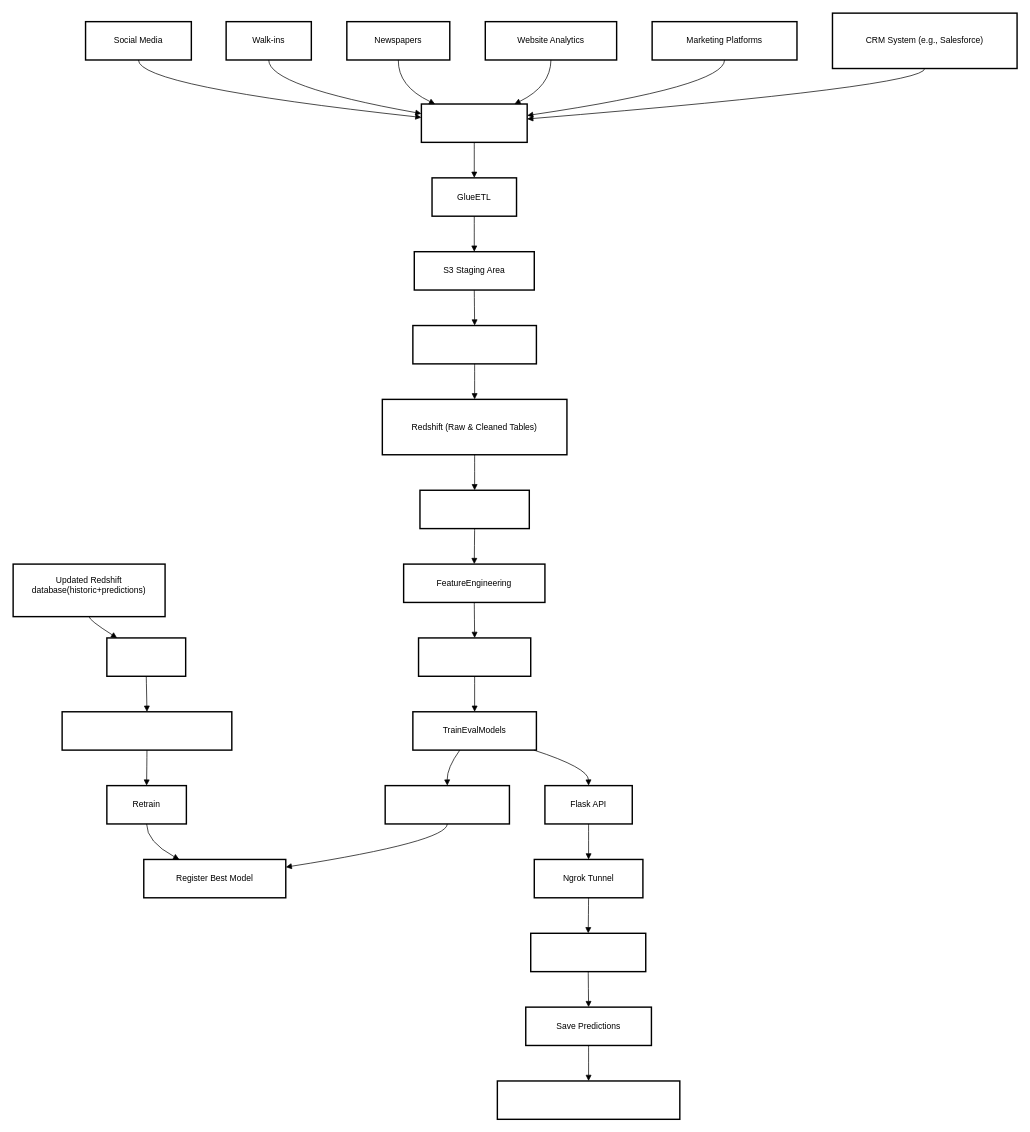
Some shapes in this 1030 by 1132 pixel diagram are drawn without their labels. Here are the shapes that lost their labels. From the top down, the box of each, then its label:
(420, 103, 528, 143): GlueCrawler
(412, 324, 537, 364): GlueConnection
(419, 489, 530, 529): DataCleaning
(106, 637, 186, 677): Airflow
(417, 637, 531, 677): Preprocessing
(61, 711, 232, 750): Evidently Drift Detection
(384, 785, 510, 824): MLflow Tracking
(530, 932, 646, 972): User Interface
(496, 1080, 680, 1120): Redshift (Predictions Table)
